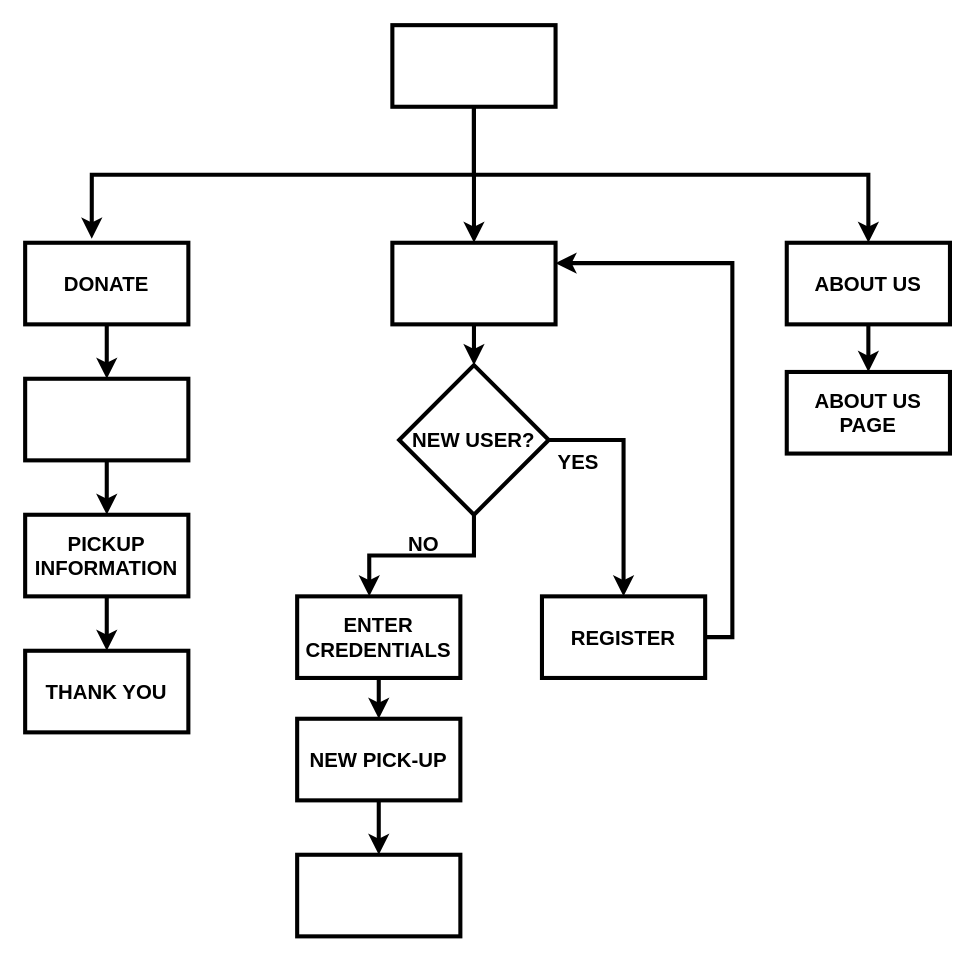
This 975x962 diagram has some shape labels left out. Here are the shapes that lost their labels. From the top down, the centre of each, then its label:
the point at 473,65: HOMEPAGE
the point at 473,283: LOGIN
the point at 106,419: DONATION INFORMATION
the point at 378,895: QUALITY CHECK
